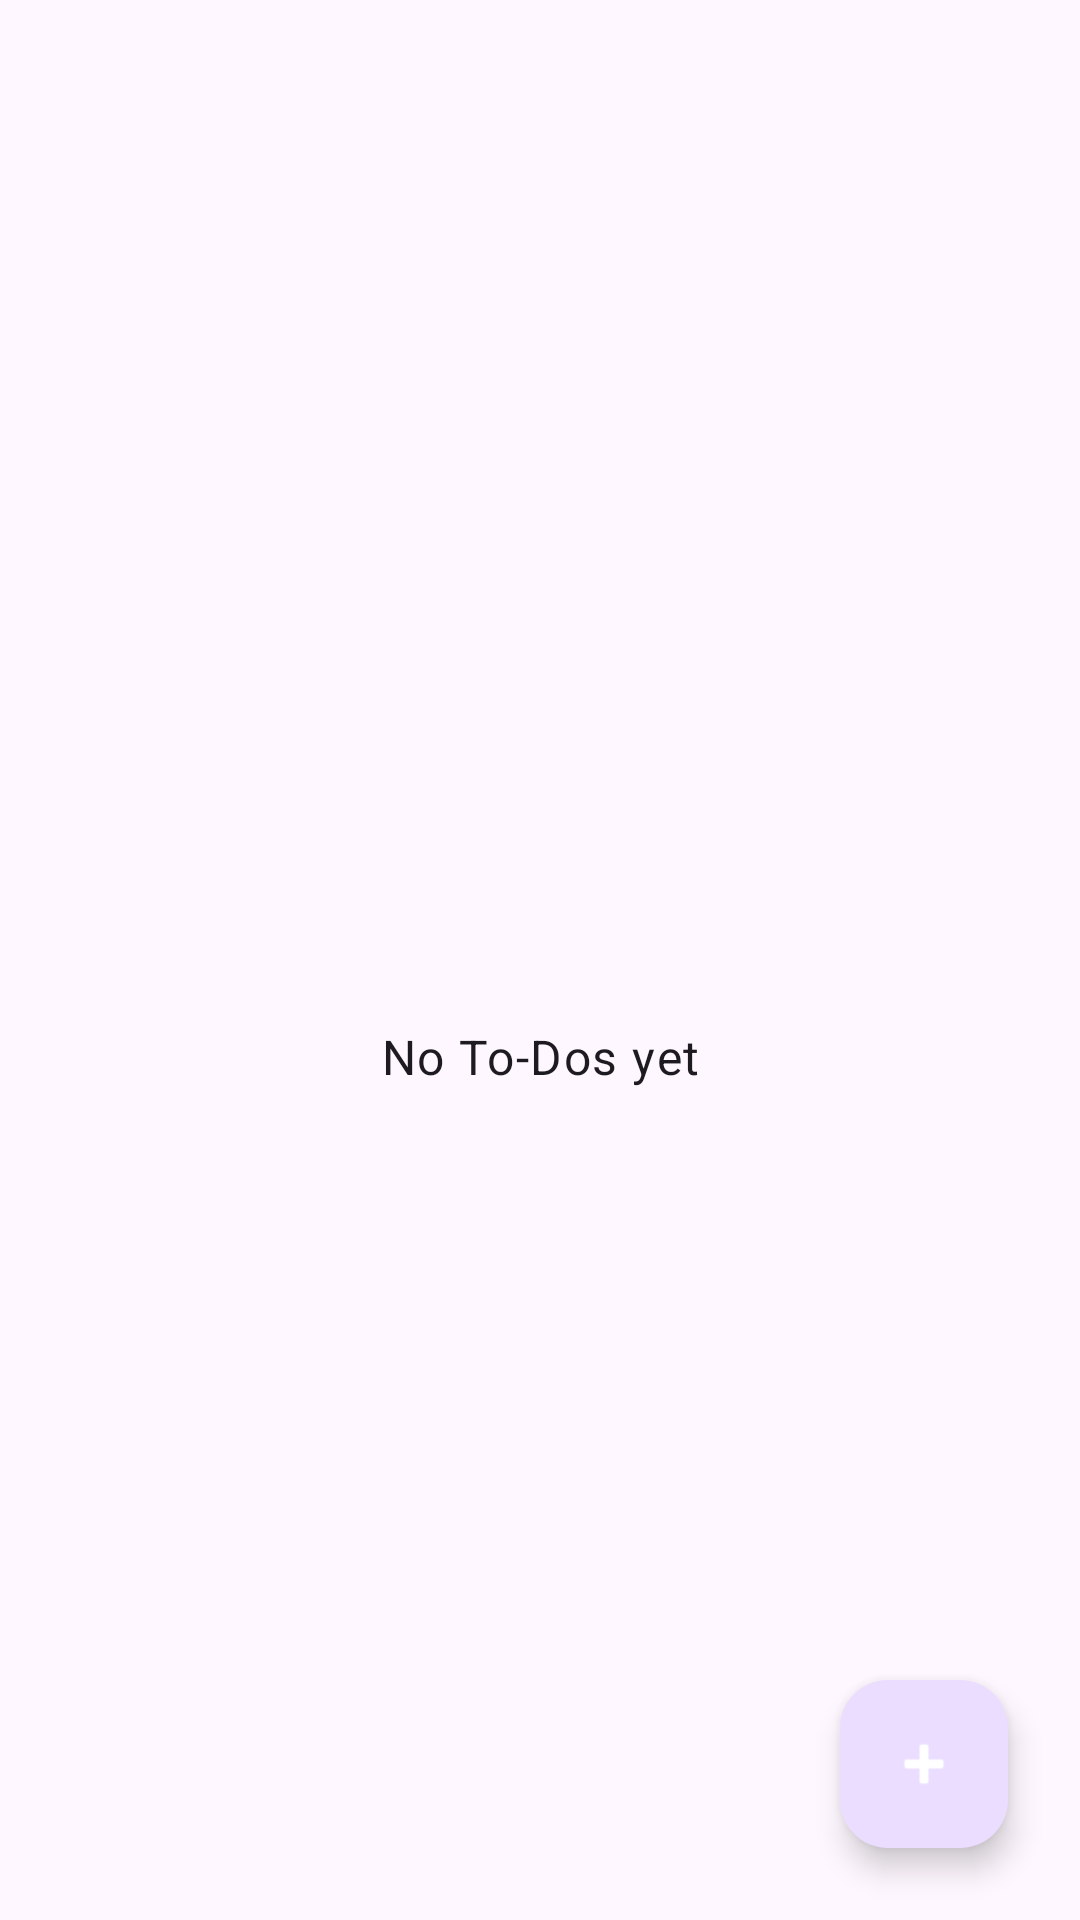

Point at icon controls on the screen. Image size 1080*1920, points as (x=x, y=y).
Add To-Do: (x=924, y=1764)
